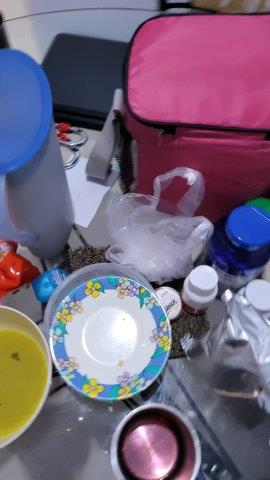plastik: (101, 167, 214, 283)
